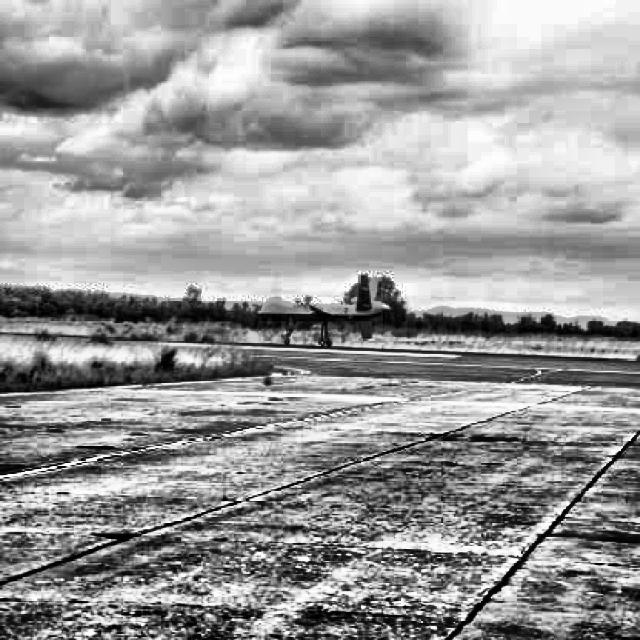MQ9: (252, 273, 392, 347)
